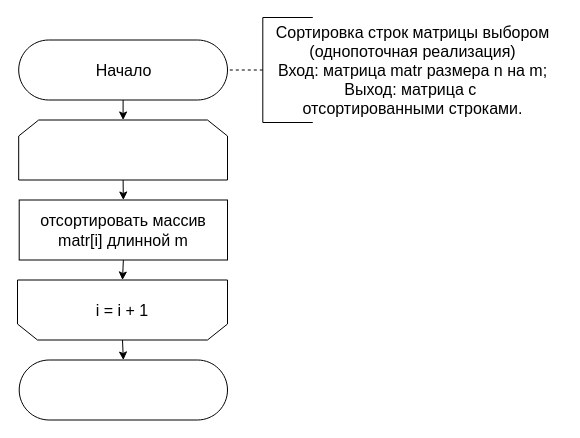
Image size: 580x438. Some labels were removed from this diagram. Here are the shapes that lost their labels. From the top down, the centre of each, then its label:
At pixel 123 149: "Цикл от i = 0 до n".
At pixel 123 389: "Конец".
